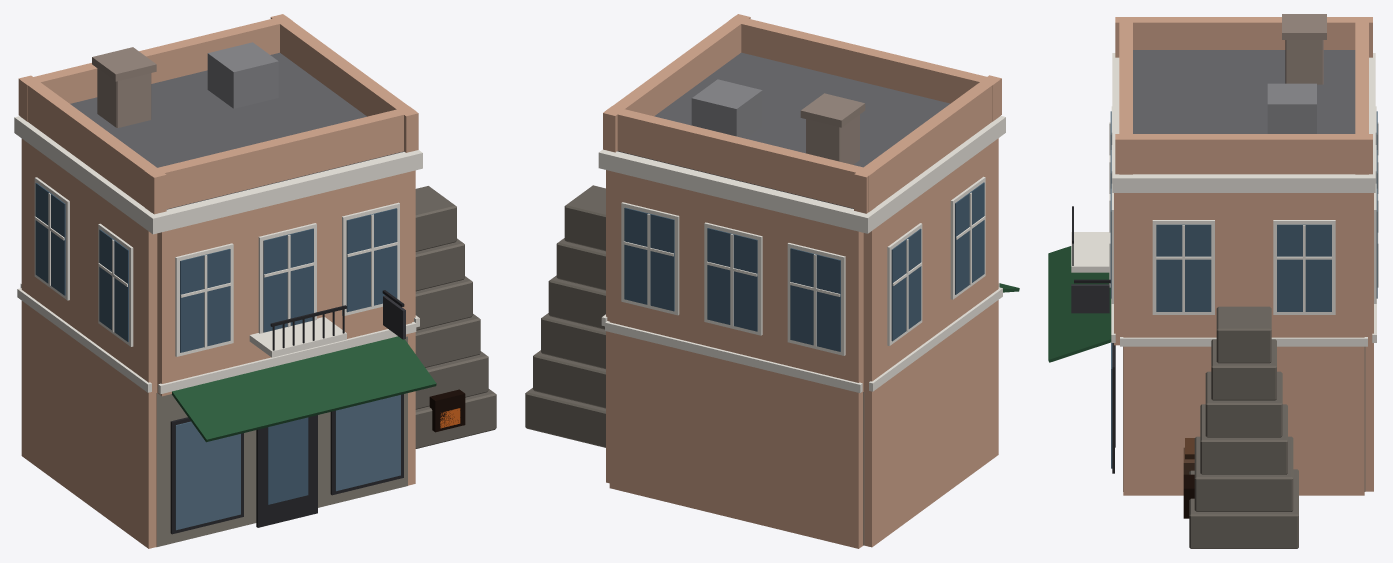
File: smelter_4.glb
The picture shows the model from 3 angles, left to right: view 1: azimuth 30°, elevation 25°; view 2: azimuth 150°, elevation 25°; view 3: azimuth 270°, elevation 25°; orthographic projection. The views are drawn at different scales.
Parts seen in each view (by area): view 1: smelter4_plaster, smelter4_stone, smelter4_glass, smelter4_wood, smelter4_cloth, smelter4_iron, smelter4_brick, smelter4_soot; view 2: smelter4_plaster, smelter4_stone, smelter4_glass, smelter4_wood, smelter4_brick, smelter4_iron; view 3: smelter4_plaster, smelter4_stone, smelter4_glass, smelter4_wood, smelter4_cloth, smelter4_brick, smelter4_iron, smelter4_soot.
Part boxes in pixels (x1,y1,x2,y2): smelter4_plaster: (18, 14, 418, 548); smelter4_stone: (14, 116, 496, 546); smelter4_glass: (35, 183, 460, 530); smelter4_wood: (34, 177, 405, 534); smelter4_cloth: (172, 336, 436, 442); smelter4_iron: (207, 42, 404, 350); smelter4_brick: (92, 47, 156, 127); smelter4_soot: (429, 389, 465, 432); smelter4_plaster: (603, 14, 1001, 548); smelter4_stone: (525, 116, 1005, 545); smelter4_glass: (624, 182, 984, 351); smelter4_wood: (621, 176, 985, 355); smelter4_brick: (800, 93, 865, 164); smelter4_iron: (691, 79, 762, 138); smelter4_plaster: (1114, 17, 1373, 495); smelter4_stone: (1071, 53, 1376, 548); smelter4_glass: (1110, 111, 1377, 468); smelter4_wood: (1071, 106, 1378, 474); smelter4_cloth: (1048, 246, 1194, 459); smelter4_brick: (1282, 14, 1326, 84); smelter4_iron: (1072, 83, 1316, 283); smelter4_soot: (1183, 474, 1194, 518).
Size of the model in its own units: 7.75 by 7.67 by 6.03.
